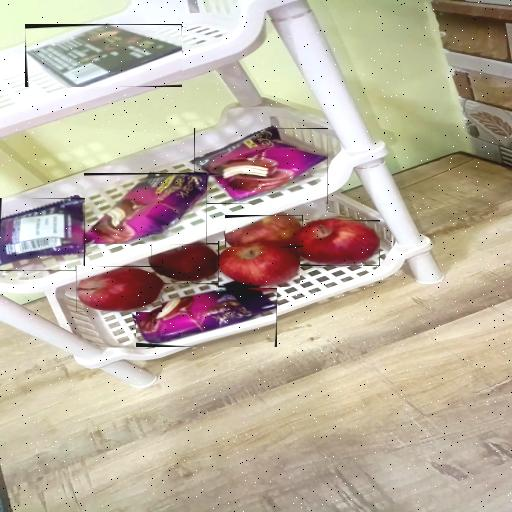Apple: (294, 220, 380, 266), (76, 266, 162, 312), (218, 241, 300, 287), (151, 243, 221, 281), (225, 215, 303, 247)
Choco Fills: (25, 24, 182, 87)
Choco Pie: (194, 128, 328, 204), (136, 283, 277, 347), (84, 173, 207, 244), (0, 198, 85, 271)
